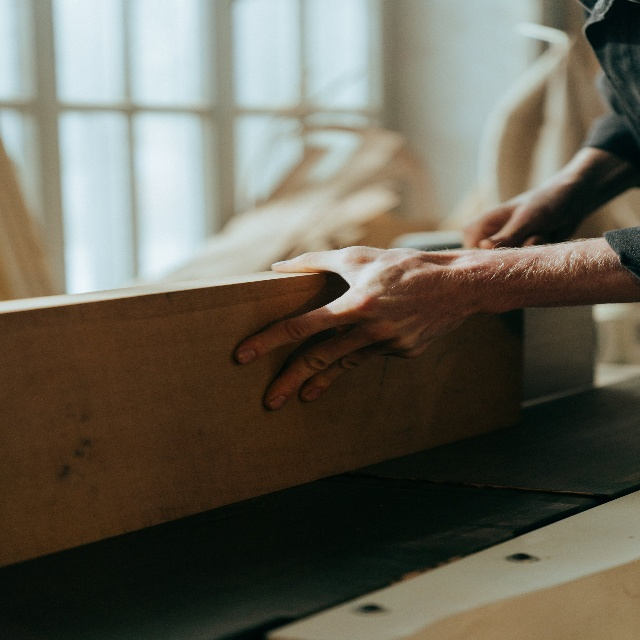Sin_guantes: (232, 241, 478, 414), (463, 178, 587, 250)
